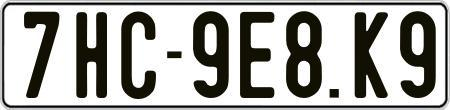7: (24, 12, 65, 100)
8: (285, 8, 326, 98)
9: (191, 9, 230, 100), (399, 10, 436, 100)
C: (119, 9, 159, 101)
E: (239, 12, 277, 100)
H: (76, 10, 108, 96)
K: (354, 11, 388, 99)
